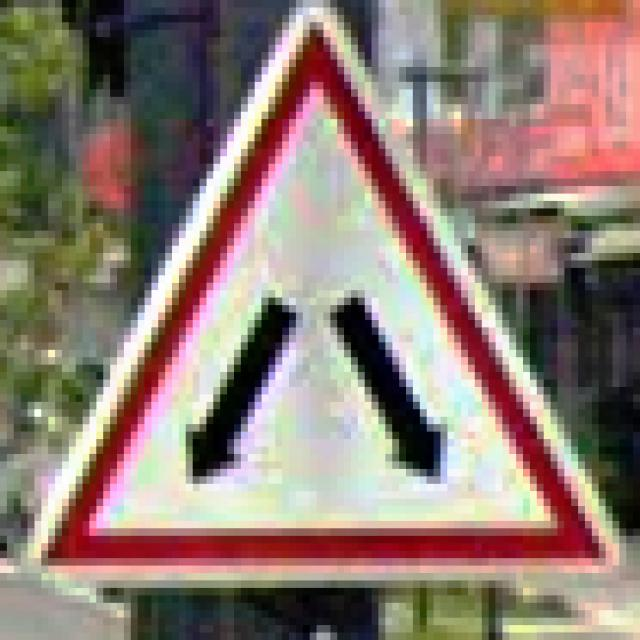diverge: (21, 0, 626, 588)
